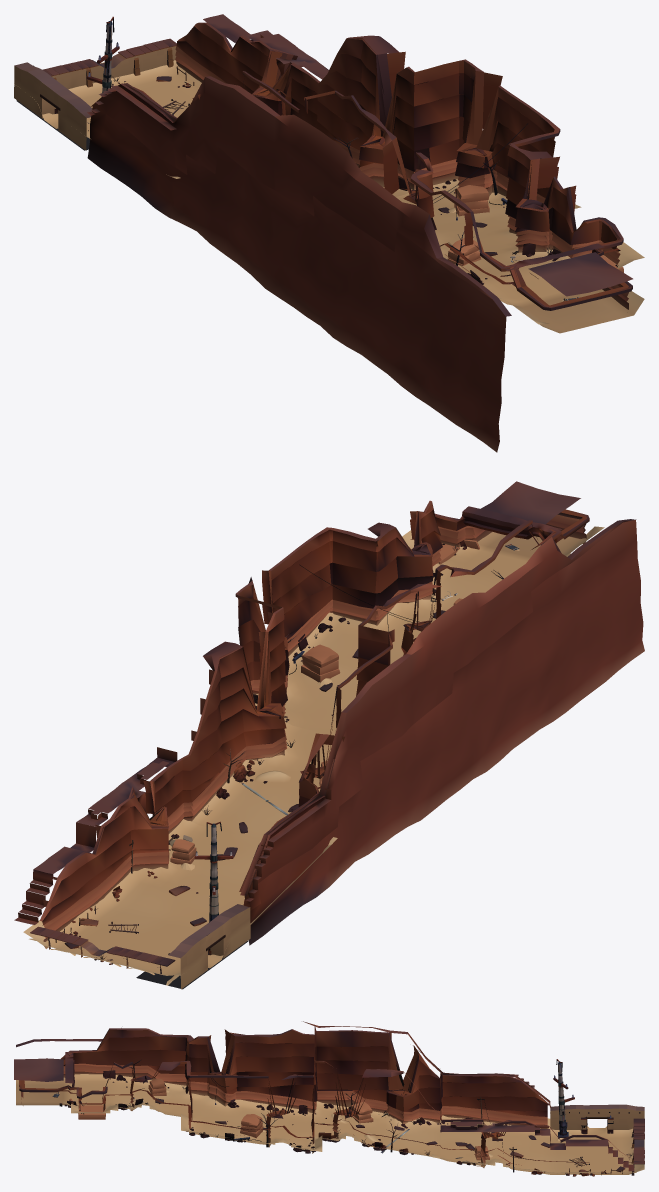
Rendered from env_the_lip.glb.
3 renders of one model, top to bottom at view 1: azimuth 30°, elevation 25°; view 2: azimuth 150°, elevation 25°; view 3: azimuth 270°, elevation 25°, orthographic. The views are drawn at different scales.
Parts seen in each view (by area): view 1: chunk_lip_rock__m_frontier, chunk_lip_upper__m_frontier, chunk_lip_gate__m_frontier, chunk_lip_mid__m_frontier, chunk_lip_upper__m_sand, chunk_lip_gate__m_sand; view 2: chunk_lip_rock__m_frontier, chunk_lip_upper__m_frontier, chunk_lip_gate__m_frontier, chunk_lip_gate__m_sand, chunk_lip_upper__m_sand, chunk_lip_mid__m_frontier, chunk_lip_mid__m_sand; view 3: chunk_lip_rock__m_frontier, chunk_lip_upper__m_sand, chunk_lip_gate__m_sand, chunk_lip_gate__m_frontier, chunk_lip_upper__m_frontier, chunk_lip_mid__m_sand, chunk_lip_mid__m_frontier.
Part boxes in pixels (bbox=[...]): chunk_lip_rock__m_frontier: bbox=[14, 16, 632, 316]; chunk_lip_upper__m_frontier: bbox=[268, 123, 628, 452]; chunk_lip_gate__m_frontier: bbox=[14, 14, 328, 218]; chunk_lip_mid__m_frontier: bbox=[171, 135, 413, 290]; chunk_lip_upper__m_sand: bbox=[396, 179, 644, 333]; chunk_lip_gate__m_sand: bbox=[16, 60, 201, 176]; chunk_lip_rock__m_frontier: bbox=[39, 481, 636, 967]; chunk_lip_upper__m_frontier: bbox=[250, 514, 644, 817]; chunk_lip_gate__m_frontier: bbox=[14, 747, 331, 989]; chunk_lip_gate__m_sand: bbox=[23, 819, 331, 989]; chunk_lip_upper__m_sand: bbox=[255, 526, 604, 735]; chunk_lip_mid__m_frontier: bbox=[190, 683, 423, 884]; chunk_lip_mid__m_sand: bbox=[192, 722, 337, 845]; chunk_lip_rock__m_frontier: bbox=[14, 1021, 644, 1162]; chunk_lip_upper__m_sand: bbox=[16, 1074, 314, 1150]; chunk_lip_gate__m_sand: bbox=[440, 1115, 644, 1174]; chunk_lip_gate__m_frontier: bbox=[440, 1074, 644, 1176]; chunk_lip_upper__m_frontier: bbox=[21, 1060, 314, 1153]; chunk_lip_mid__m_sand: bbox=[314, 1101, 440, 1158]; chunk_lip_mid__m_frontier: bbox=[314, 1090, 440, 1155].
Size of what is drawn, in the model's own units: 30.51 by 26.34 by 120.
